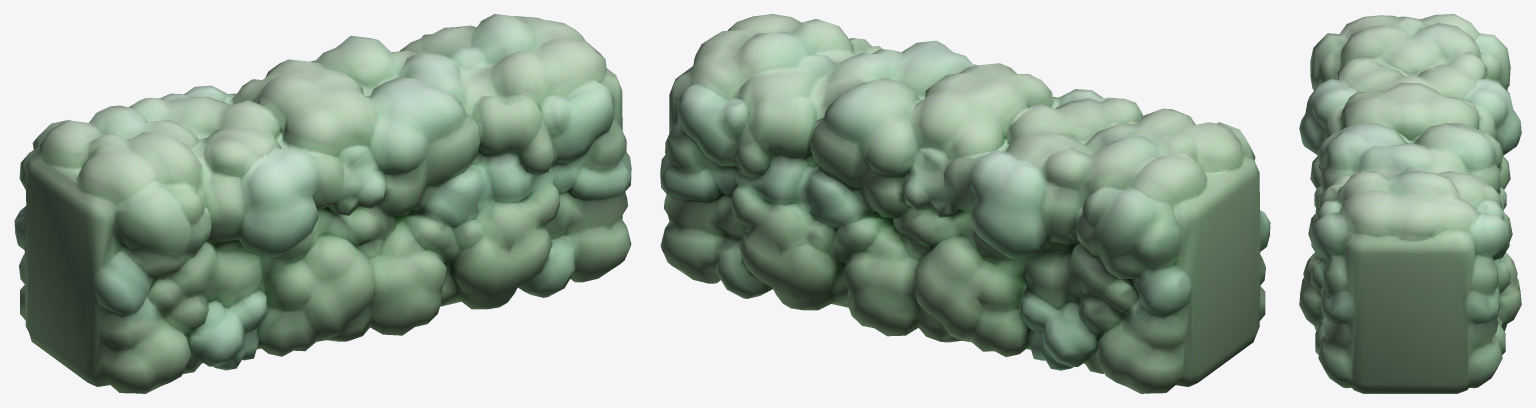
The model's file is hedge.glb.
3 views of the same model, side by side, from view 1: azimuth 30°, elevation 25°; view 2: azimuth 150°, elevation 25°; view 3: azimuth 270°, elevation 25° (orthographic). The views are drawn at different scales.
Visible parts, largest first — view 1: tripo_node_c05aaae6-26d8-40d6-a5e1-c1d13ed34287; view 2: tripo_node_c05aaae6-26d8-40d6-a5e1-c1d13ed34287; view 3: tripo_node_c05aaae6-26d8-40d6-a5e1-c1d13ed34287.
Part boxes in pixels (<box>): tripo_node_c05aaae6-26d8-40d6-a5e1-c1d13ed34287: <box>14,14,631,393</box>; tripo_node_c05aaae6-26d8-40d6-a5e1-c1d13ed34287: <box>660,14,1270,393</box>; tripo_node_c05aaae6-26d8-40d6-a5e1-c1d13ed34287: <box>1299,14,1521,393</box>.
Size of the model in its own units: 0.9982 by 0.4239 by 0.4317.
Materials: 1 (1 with a texture image).
